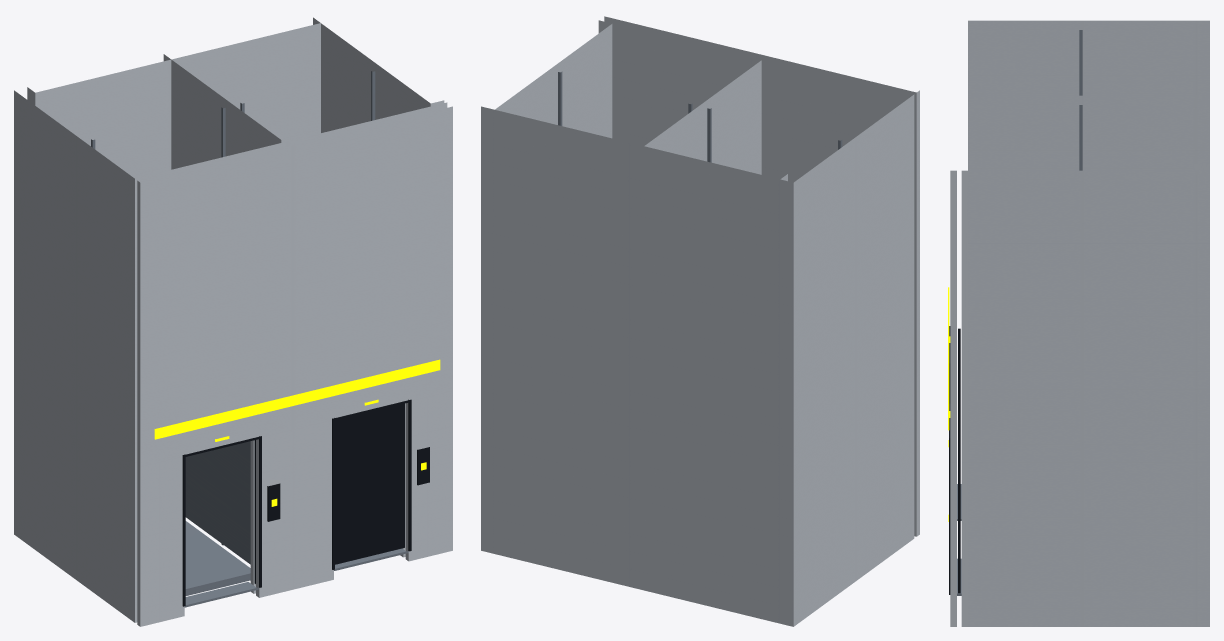
File: v5_lift.glb
3 views of the same model, side by side, from view 1: azimuth 30°, elevation 25°; view 2: azimuth 150°, elevation 25°; view 3: azimuth 270°, elevation 25° (orthographic). The views are drawn at different scales.
Visible parts, largest first — view 1: Door_Wall, Shaft_Walls, Landing_Doors, Lift_Car, Floor_Indicator_Band, Door_Jambs, Sills, Call_Panels; view 2: Shaft_Walls, Door_Wall, Guide_Rails; view 3: Shaft_Walls, Door_Wall, Landing_Doors, Guide_Rails, Door_Jambs.
Part boxes in pixels (left/top/right/bottom): Door_Wall: left=132, top=102, right=452, bottom=626; Shaft_Walls: left=14, top=17, right=444, bottom=620; Landing_Doors: left=254, top=403, right=404, bottom=583; Lift_Car: left=185, top=441, right=250, bottom=595; Floor_Indicator_Band: left=154, top=359, right=440, bottom=439; Door_Jambs: left=182, top=399, right=411, bottom=606; Sills: left=184, top=548, right=408, bottom=607; Call_Panels: left=267, top=447, right=429, bottom=521; Shaft_Walls: left=481, top=24, right=911, bottom=626; Door_Wall: left=598, top=16, right=919, bottom=540; Guide_Rails: left=558, top=71, right=842, bottom=162; Shaft_Walls: left=968, top=20, right=1209, bottom=626; Door_Wall: left=950, top=170, right=968, bottom=626; Landing_Doors: left=958, top=328, right=960, bottom=593; Guide_Rails: left=1079, top=30, right=1082, bottom=170; Door_Jambs: left=949, top=326, right=950, bottom=594.
Size of the model in its own units: 4.6 by 6.25 by 3.25.
4 materials, 3 textured.
